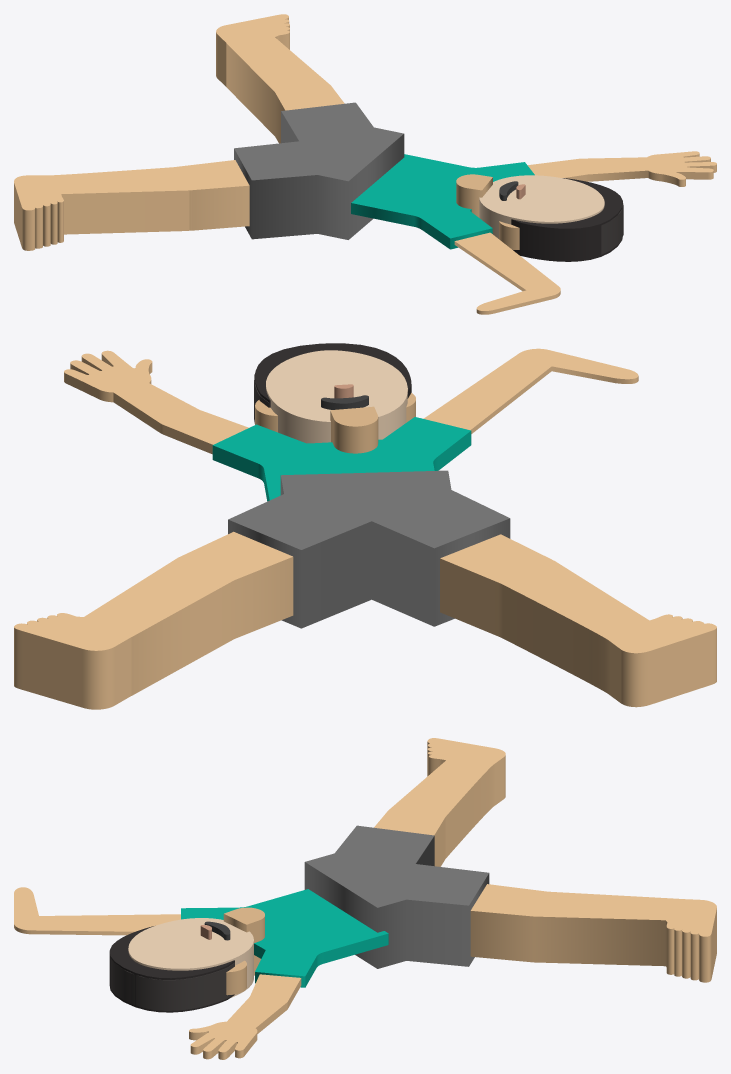
The model's file is emoji_u1f938_1f3fb_200d_2642.glb.
3 renders of one model, top to bottom at view 1: azimuth 30°, elevation 25°; view 2: azimuth 150°, elevation 25°; view 3: azimuth 270°, elevation 25°, orthographic. The views are drawn at different scales.
Visible parts, largest first — view 1: emoji_u1f938_1f3fb_200d_2642; view 2: emoji_u1f938_1f3fb_200d_2642; view 3: emoji_u1f938_1f3fb_200d_2642.
Boxes of the visible parts, x1,y1,x2,y2 form: emoji_u1f938_1f3fb_200d_2642: (14, 14, 716, 314); emoji_u1f938_1f3fb_200d_2642: (14, 343, 716, 709); emoji_u1f938_1f3fb_200d_2642: (14, 738, 716, 1059).
Size of the model in its own units: 0.0333 by 0.0032 by 0.0333.
